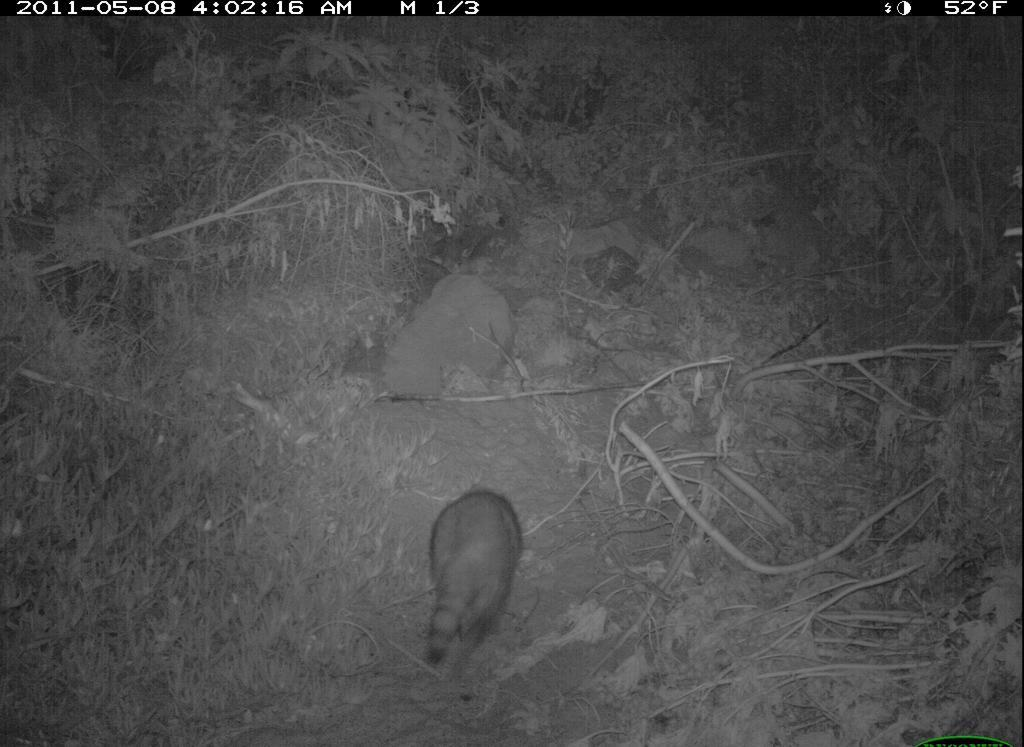raccoon: (414, 475, 539, 675)
